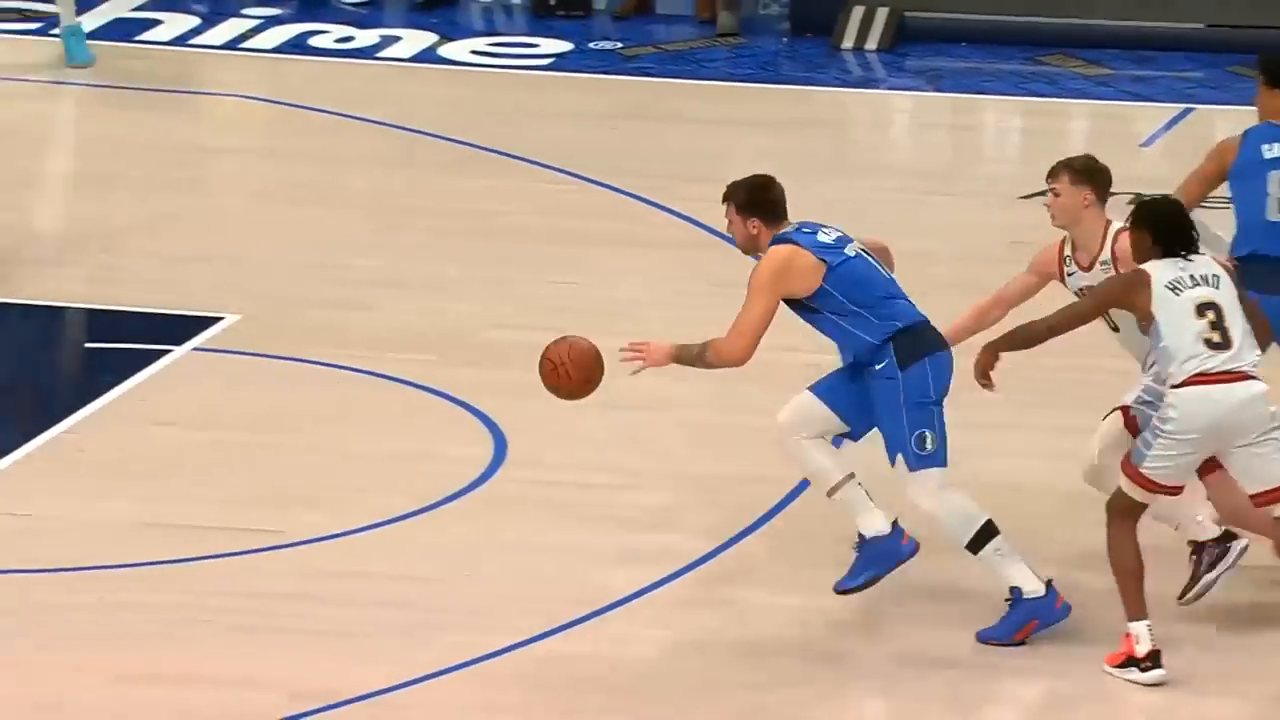ball: (532, 330, 612, 405)
